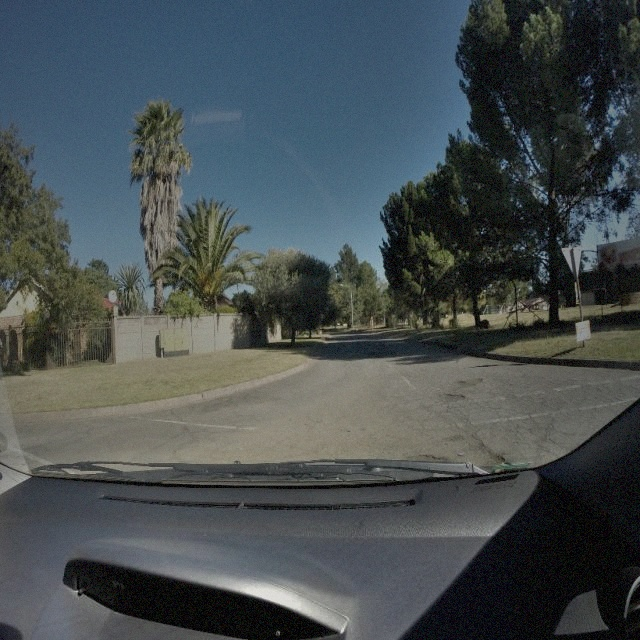pothole: (454, 376, 484, 388), (439, 392, 466, 405)
